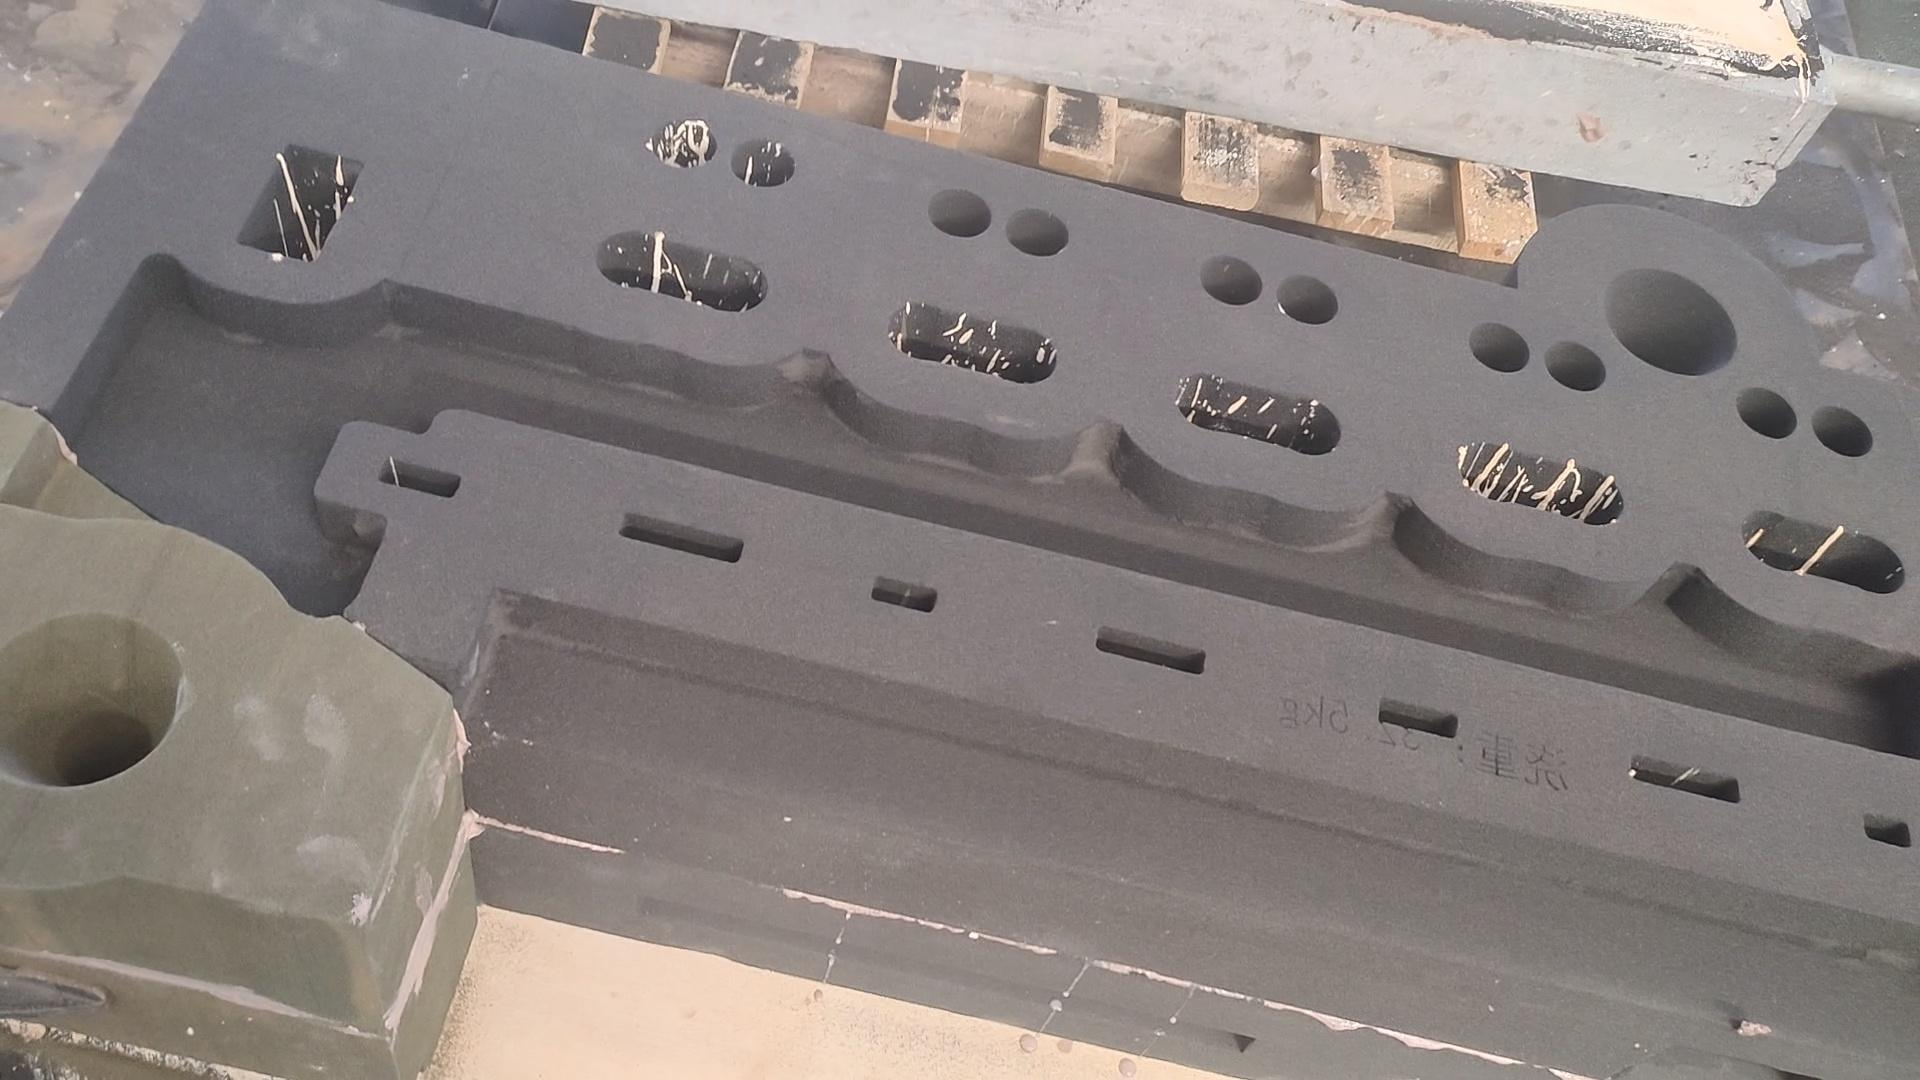pouring hole: (1, 612, 185, 786), (1602, 266, 1737, 376)
